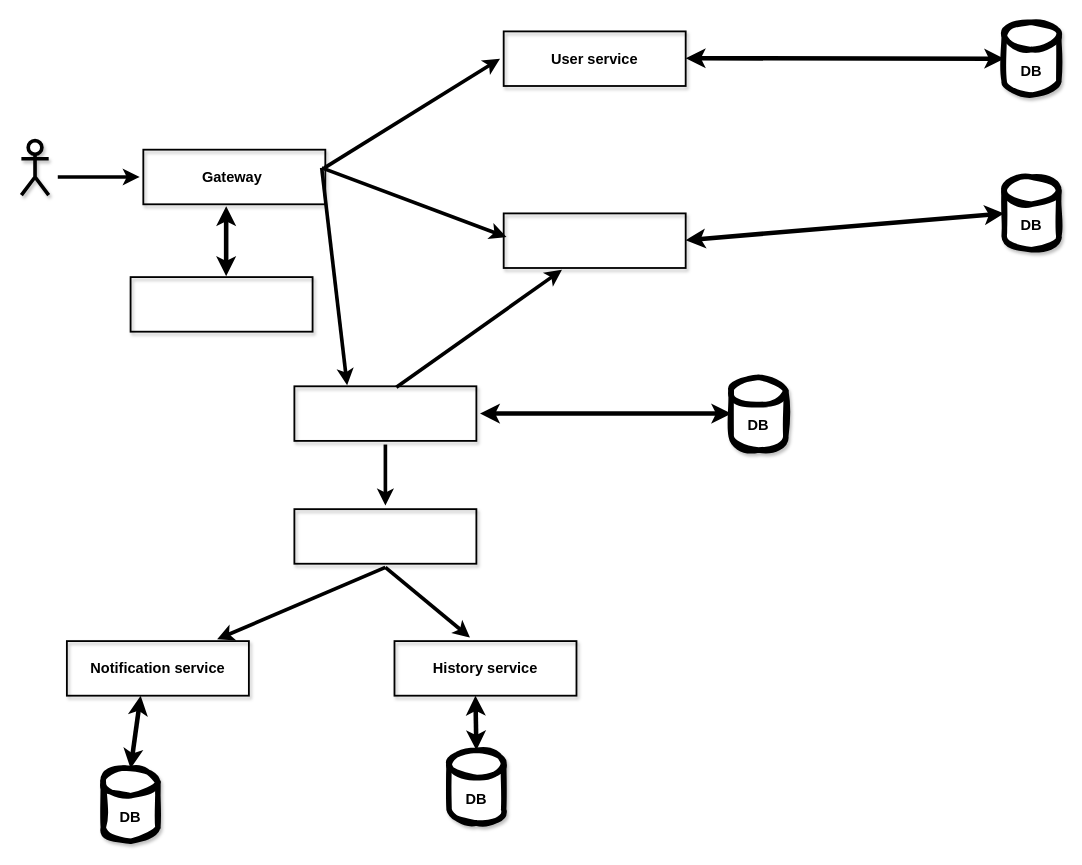
This 1082x865 diagram has some shape labels left out. The centre of each missing label's shape, as x and y in pixels:
"Authentication & Authorization" goes at [222,305].
"Kafka" goes at [385,537].
"Transaction service" goes at [385,414].
"User" goes at [35,169].
"Wallet service" goes at [595,241].
